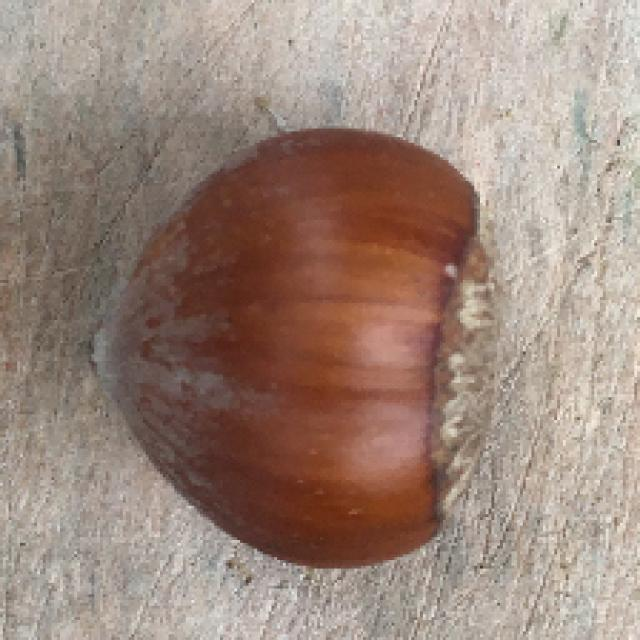qualityHazelnut: (89, 119, 502, 570)
